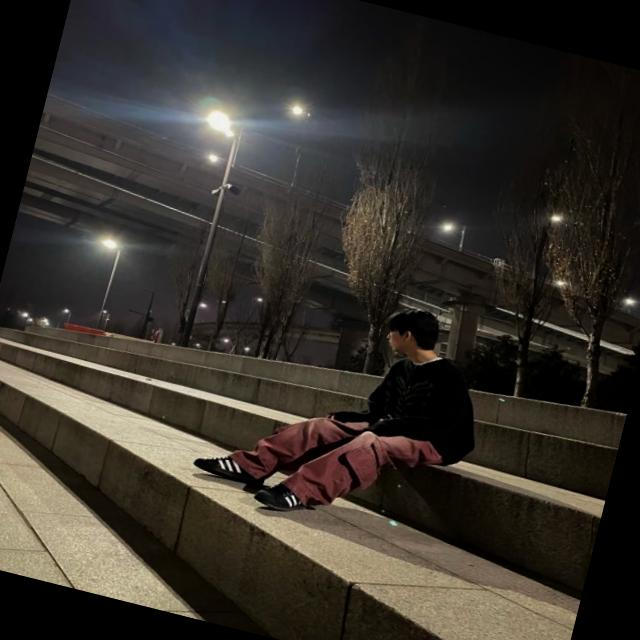cottonpants: (225, 396, 448, 538)
sweater: (318, 330, 497, 478)
